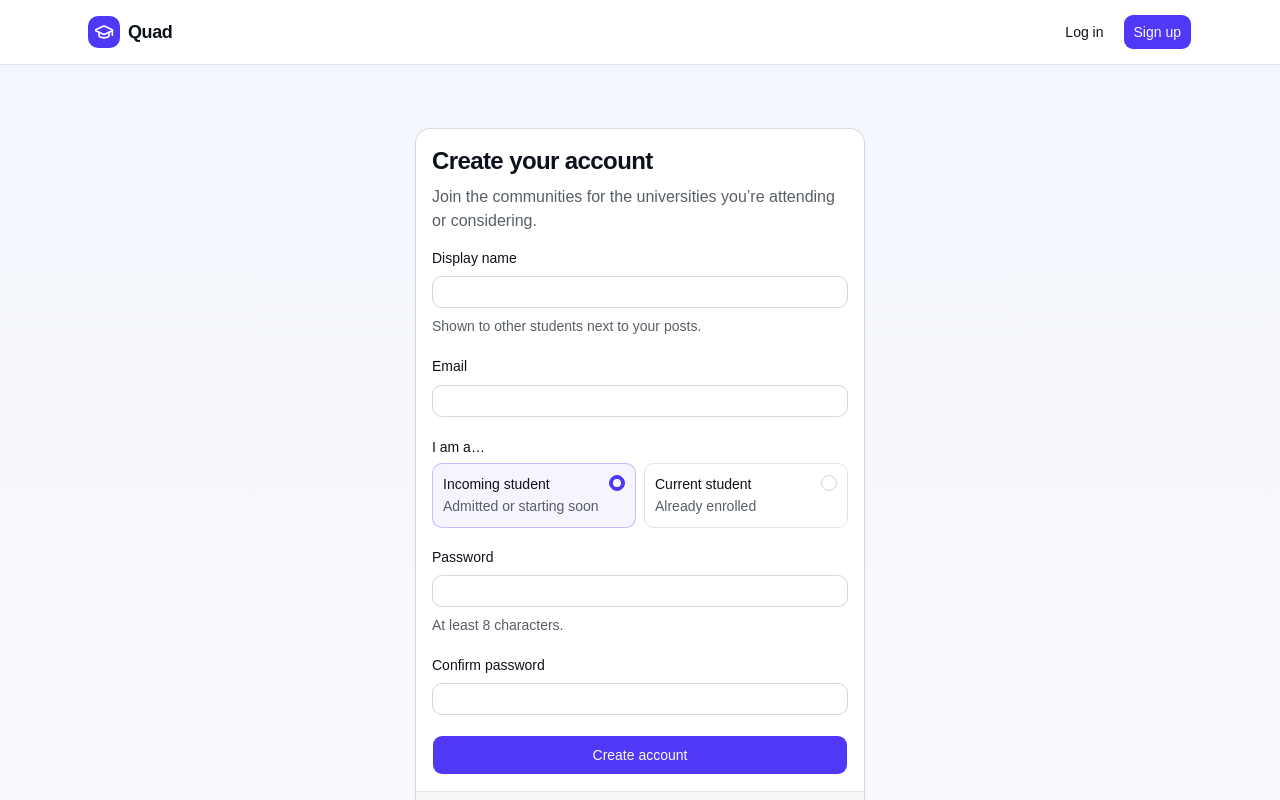
Test: SignUpPage › shows field errors when submitted empty
Click the button "Create account" at (640, 755), box 432,735 -> 848,775
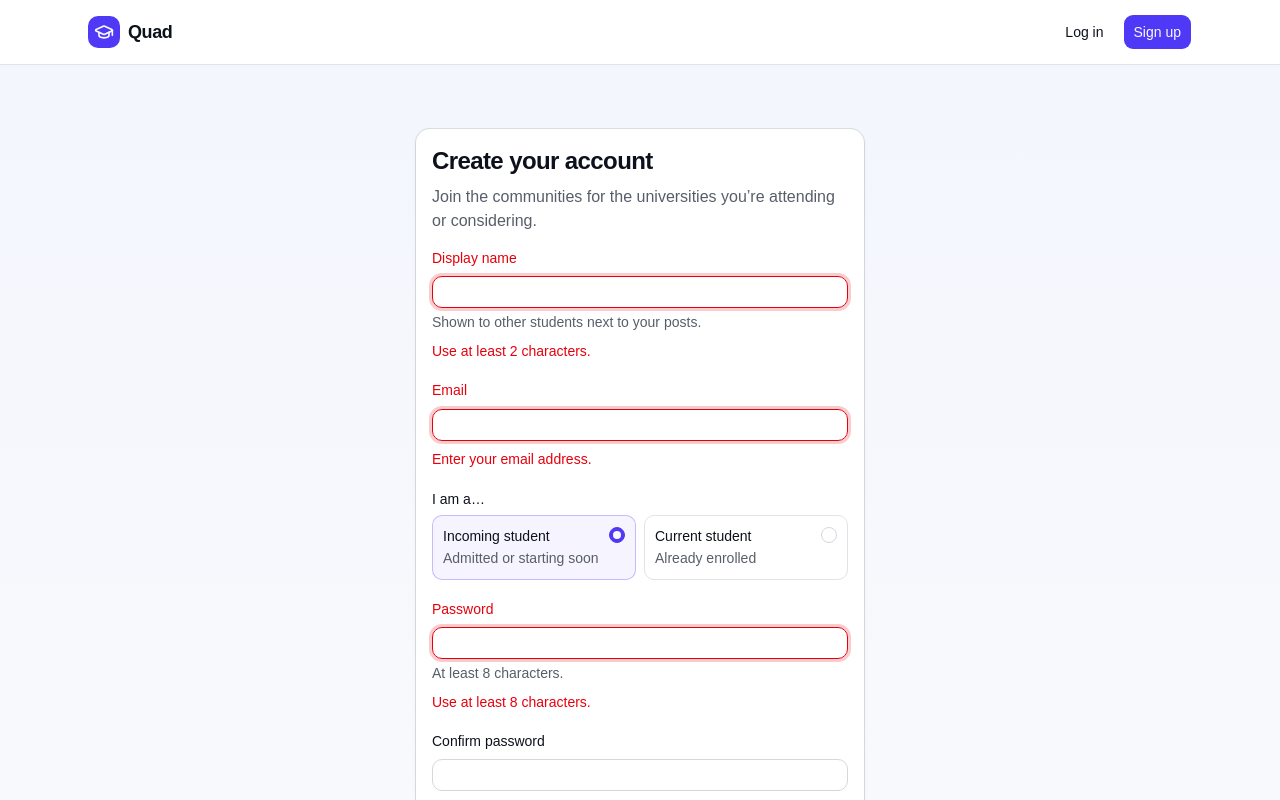
expect the text "Use at least 2 characters." is shown: met, box 432,343 -> 591,359
expect the text "Enter your email address." is shown: met, box 432,450 -> 592,466
expect the text "Use at least 8 characters." is shown: met, box 432,694 -> 591,710
